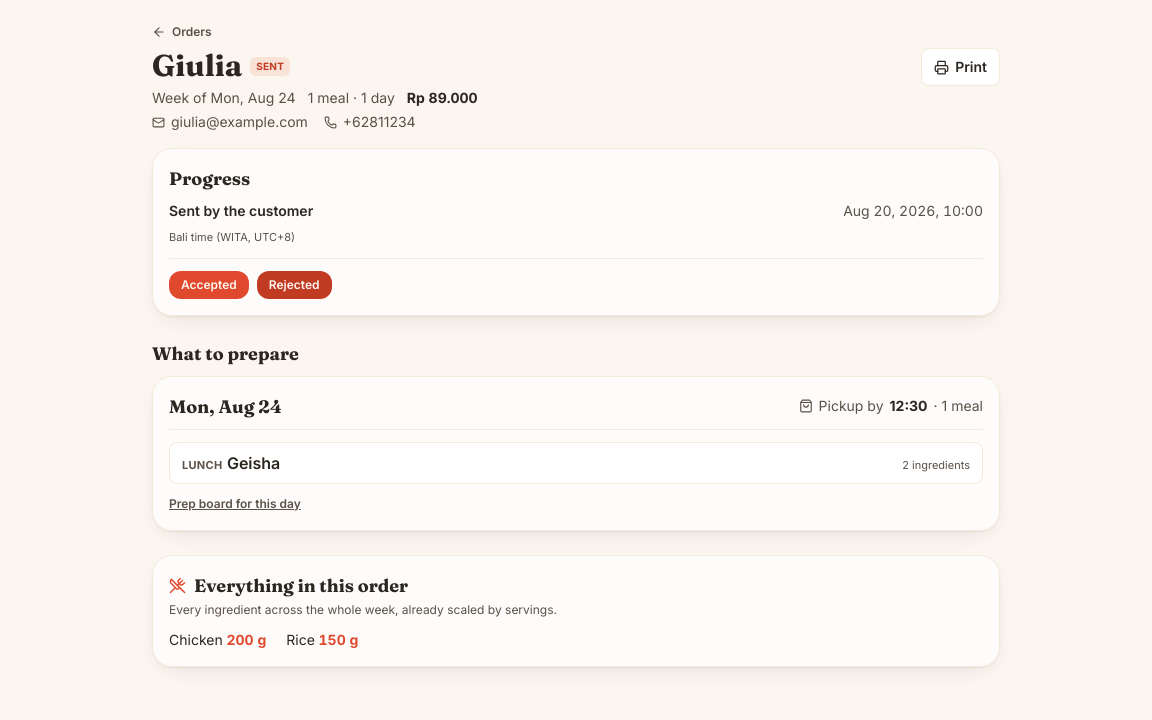
Test: moving the order along › says so when the transition fails rather than looking accepted
What coordinates should you click on to do the following:
click the button "Accepted"
I would click on:
 (209, 284)
Its box is [169,270,249,298].
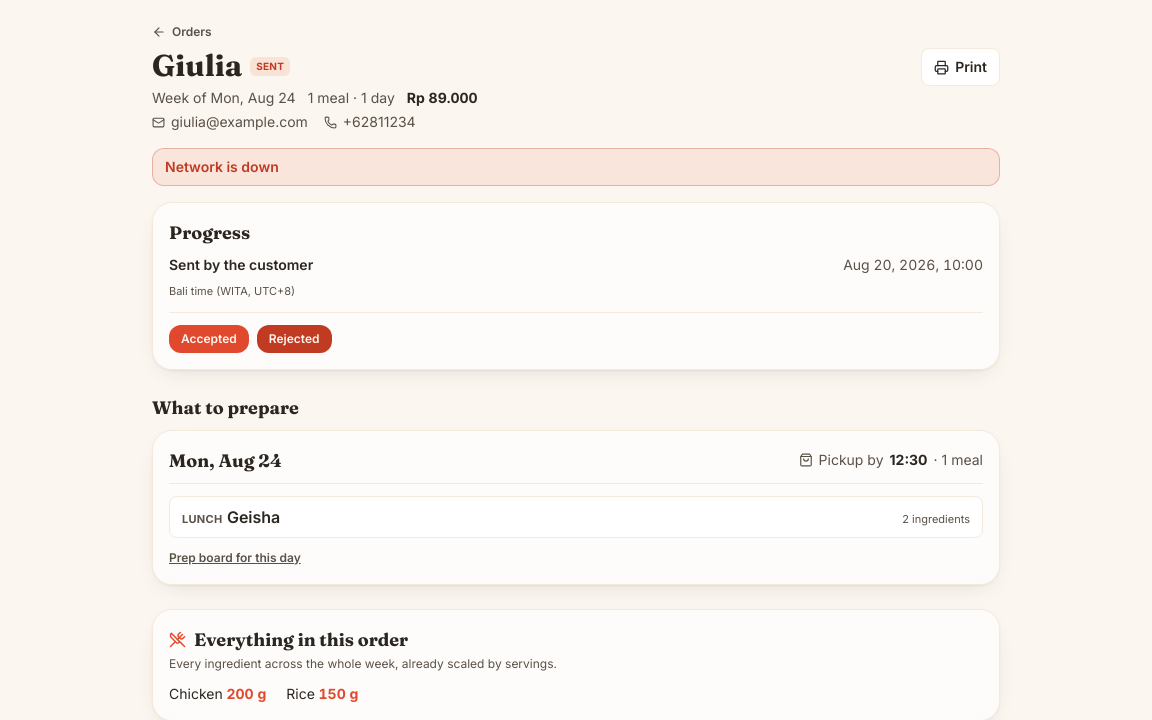
Check: the message reads "Network is down", box [165,158,279,175]
